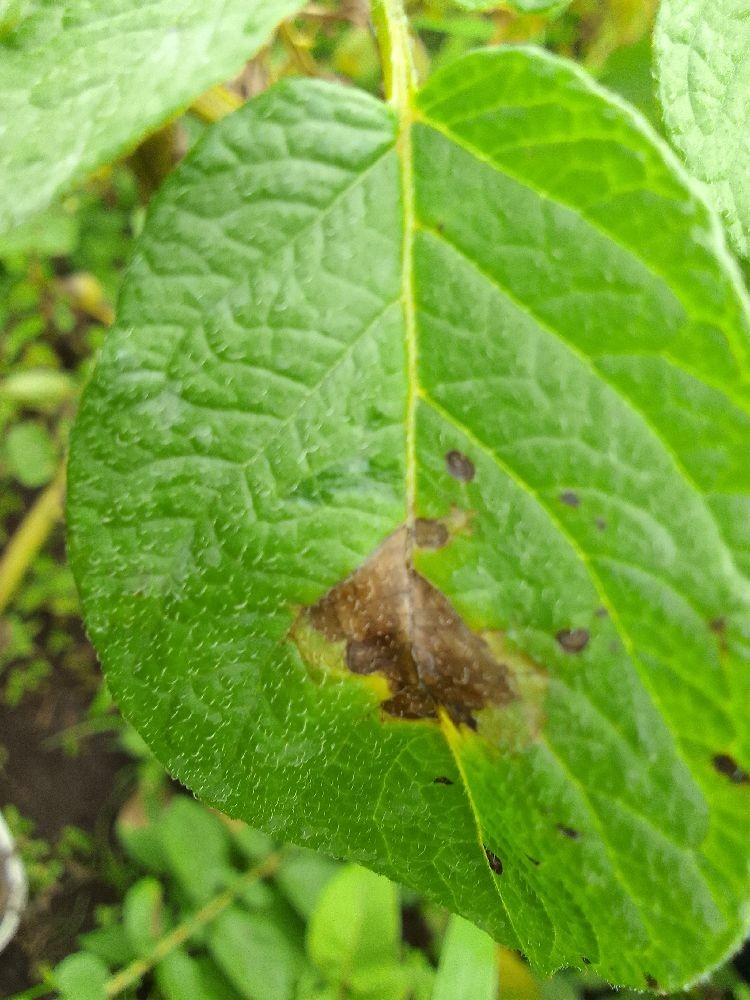late_blight: (0, 514, 196, 1000), (272, 497, 539, 750), (0, 241, 124, 391), (111, 119, 193, 217)
